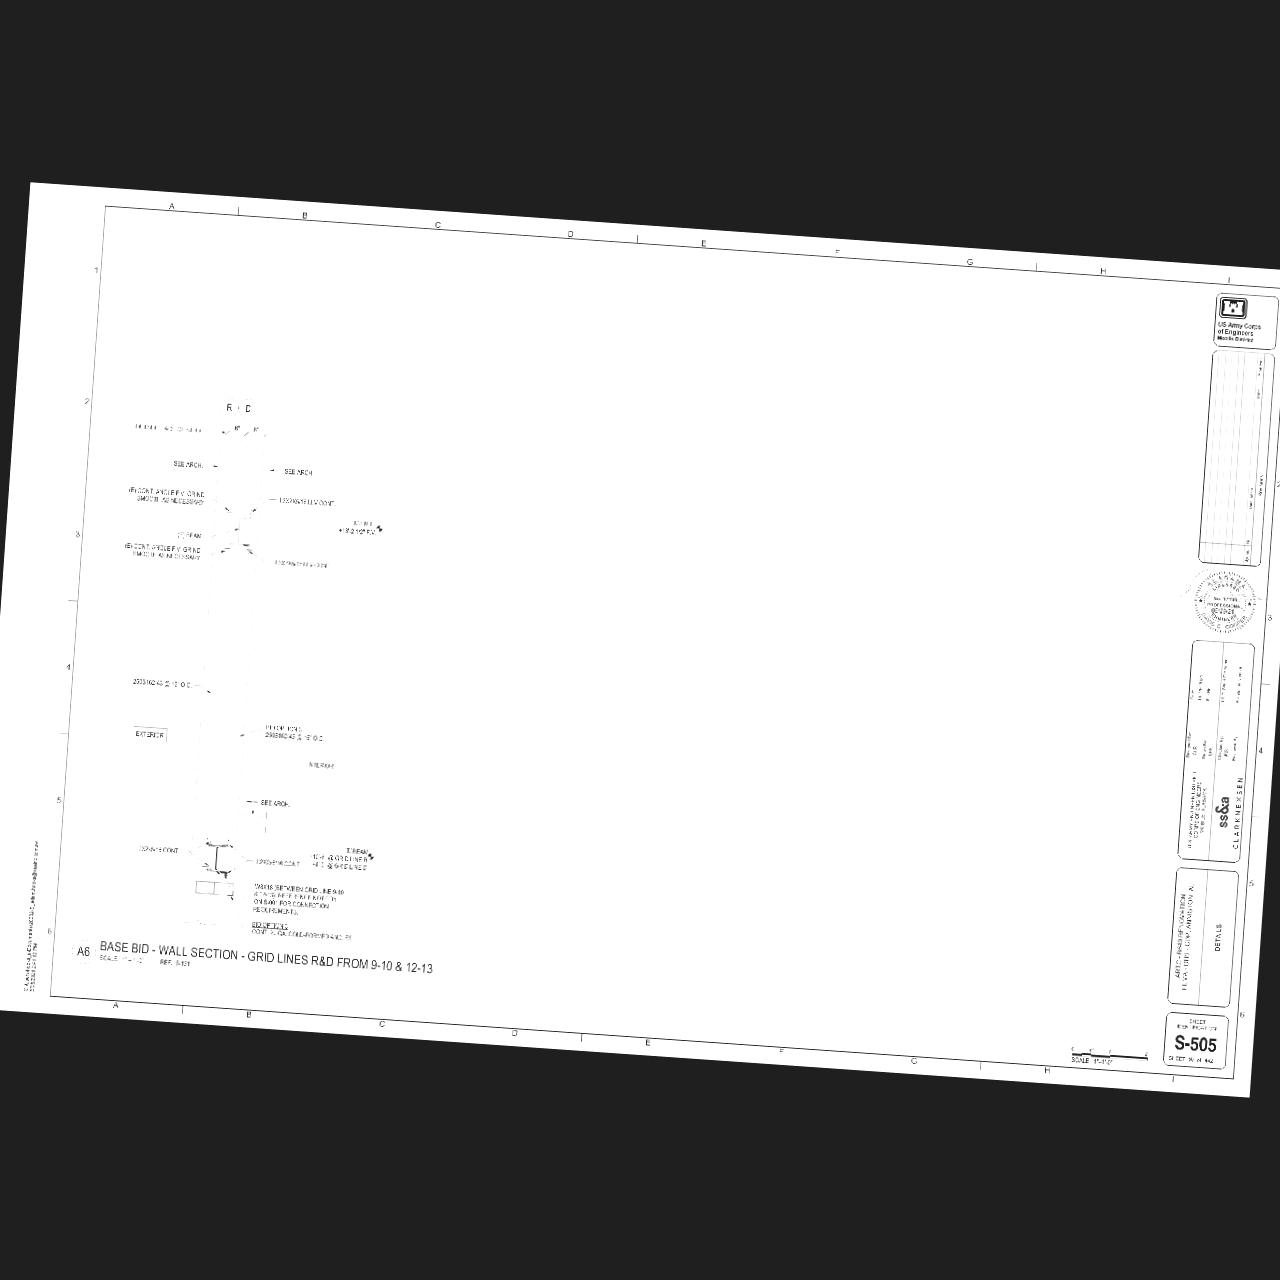title: (70, 935, 460, 992)
